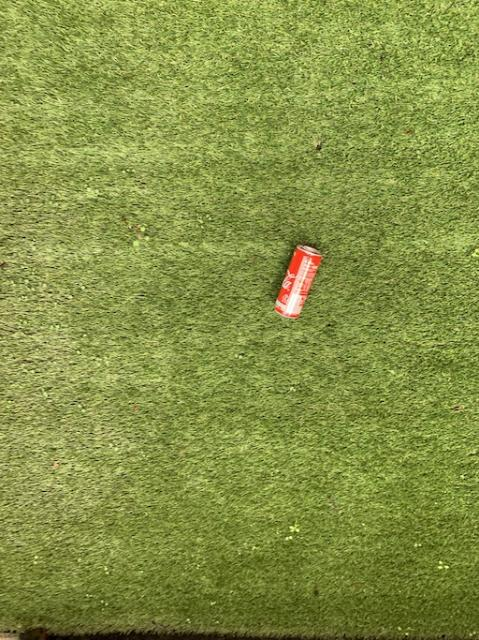metal: (274, 244, 320, 317)
